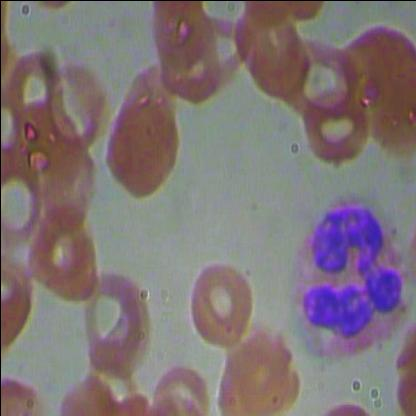RBC: (102, 62, 182, 197), (80, 257, 158, 379), (181, 252, 261, 353), (230, 2, 310, 100), (286, 22, 366, 120), (47, 43, 115, 152), (23, 189, 92, 291), (221, 328, 298, 412), (300, 82, 376, 166), (1, 35, 59, 125), (0, 138, 40, 252), (142, 357, 218, 415), (143, 362, 214, 414), (52, 364, 122, 415)
WBC: (272, 183, 415, 368)
